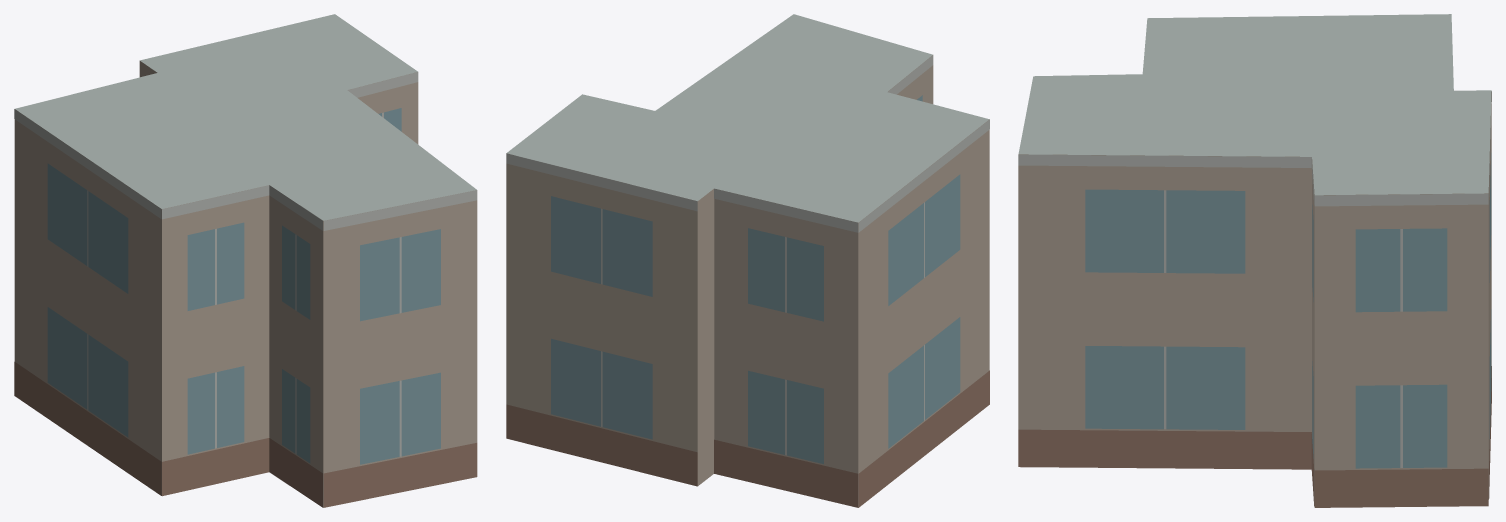
File: survey-upis-32493195.glb
The picture shows the model from 3 angles, left to right: view 1: azimuth 30°, elevation 25°; view 2: azimuth 150°, elevation 25°; view 3: azimuth 270°, elevation 25°; orthographic projection. The views are drawn at different scales.
Visible parts, largest first — view 1: survey-upis-32493195.tmp; view 2: survey-upis-32493195.tmp; view 3: survey-upis-32493195.tmp.
Part boxes in pixels (x1,y1,x2,y2): survey-upis-32493195.tmp: (14,14,477,507); survey-upis-32493195.tmp: (506,14,989,507); survey-upis-32493195.tmp: (1018,14,1491,507).
Size of the model in its own units: 8.46 by 6.8 by 9.34.
